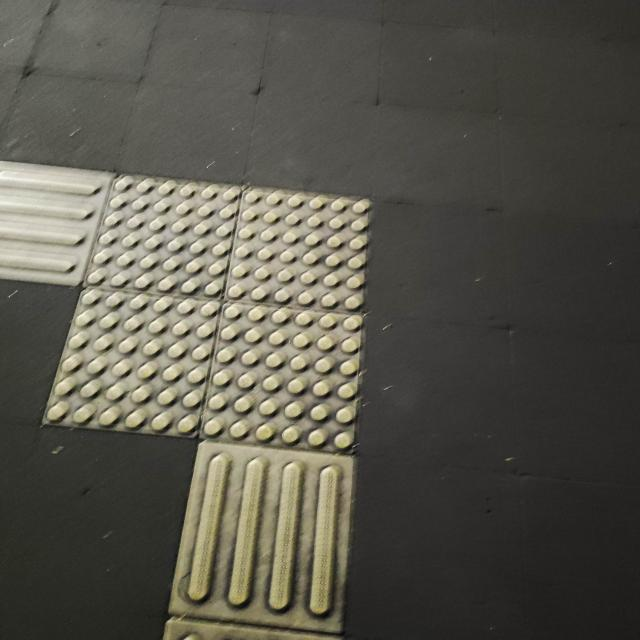kiri: (0, 135, 434, 605)
